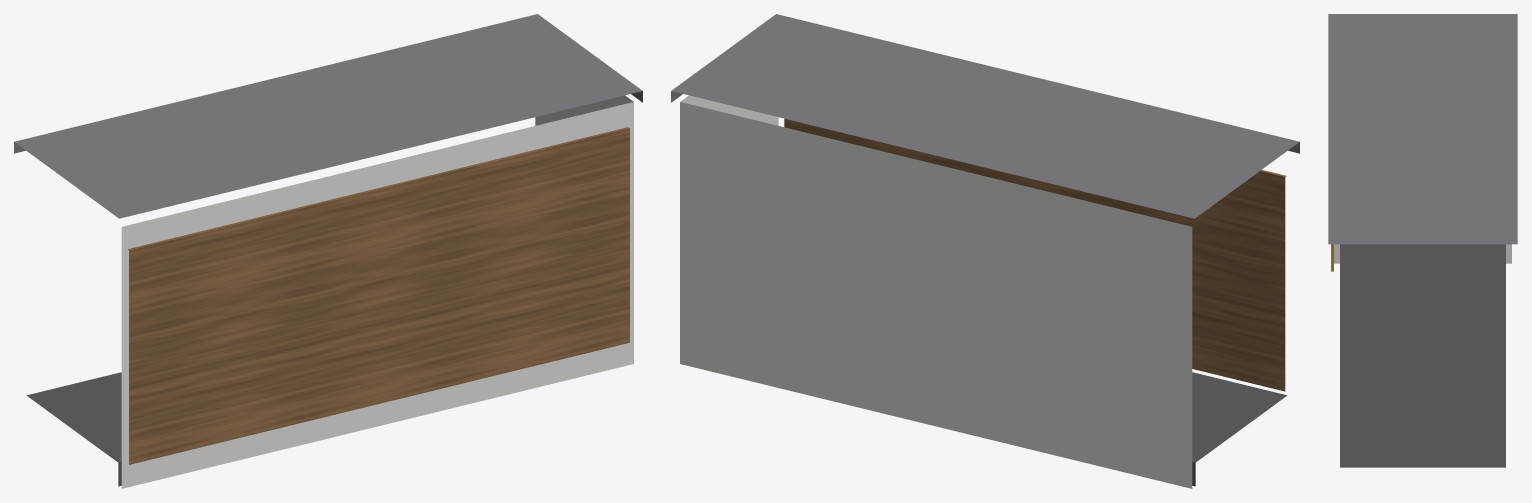
The model's file is counter.glb.
3 renders of one model, left to right at view 1: azimuth 30°, elevation 25°; view 2: azimuth 150°, elevation 25°; view 3: azimuth 270°, elevation 25°, orthographic. The views are drawn at different scales.
Visible parts, largest first — view 1: Counter; view 2: Counter; view 3: Counter.
Boxes of the visible parts, x1=… form: Counter: x1=14, y1=14, x2=642, y2=488; Counter: x1=671, y1=14, x2=1299, y2=488; Counter: x1=1328, y1=14, x2=1517, y2=467.
Size of the model in its own units: 1.84 by 0.92 by 0.64.
Materials: 4 (1 with a texture image).
